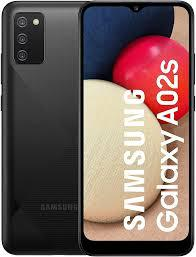Smartphone: (83, 2, 192, 253), (2, 0, 79, 251)
